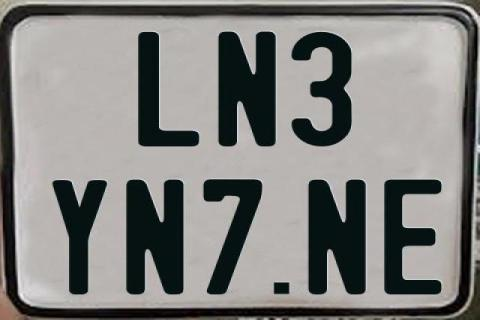0: (201, 177, 264, 297), (290, 31, 352, 151)
E: (382, 179, 444, 299)
L: (135, 31, 199, 147)
N: (306, 179, 369, 297), (126, 179, 186, 297), (215, 30, 274, 148)
Y: (52, 178, 111, 296)
